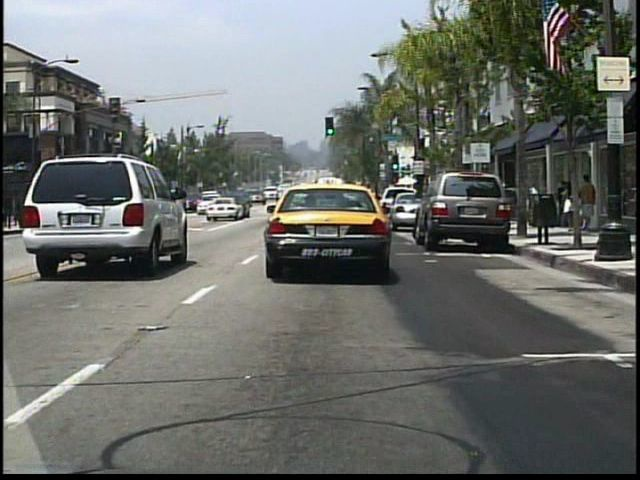person: (577, 172, 598, 234), (565, 178, 582, 234), (556, 178, 572, 230)
